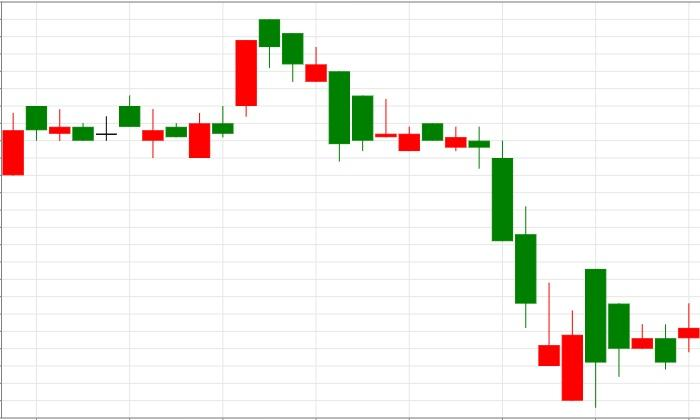bullish_engulfing_rise: (119, 95, 211, 159)
